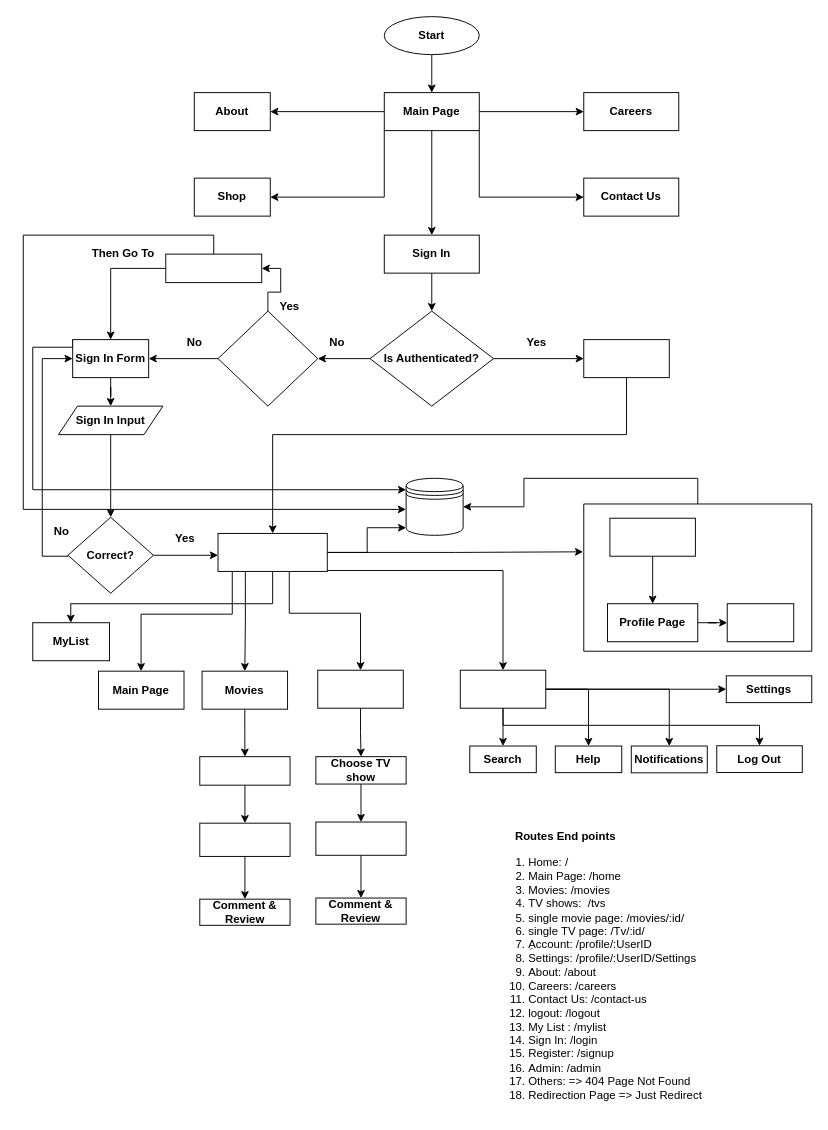
Some shapes in this 828 by 1130 pixel diagram are drawn without their labels. The centre of each missing label's shape, as x and y in pixels:
Choose Movie: the point at 244,770
DataBase: the point at 434,506
Home Page: the point at 272,551
Movie Page Movie Player: the point at 244,839
Navigation: the point at 502,688
New User?: the point at 267,358
Redirect To: the point at 626,358
Register Page: the point at 213,268
TV Page TV Player: the point at 360,838
TVs: the point at 360,688
User Info: the point at 760,622
ِAccount: the point at 652,536
